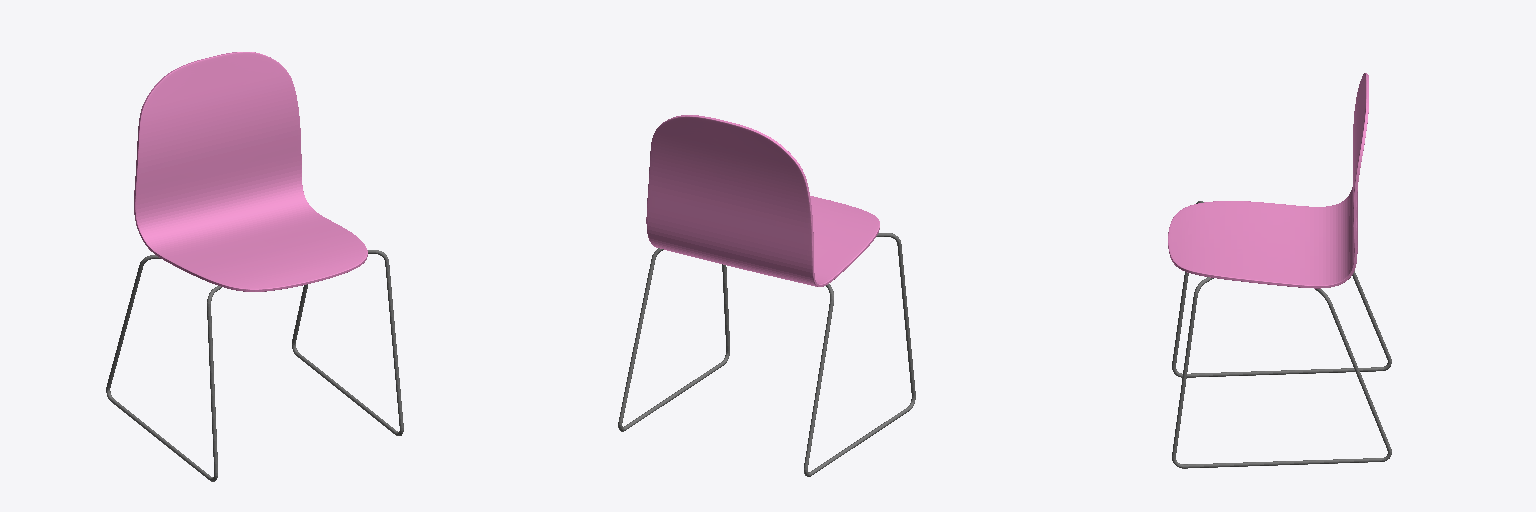
Rendered from chair08.obj.
3 views of the same model, side by side, from view 1: azimuth 30°, elevation 25°; view 2: azimuth 150°, elevation 25°; view 3: azimuth 270°, elevation 25° (orthographic).
Parts seen in each view (by area): view 1: Object.1, Object.2; view 2: Object.1, Object.2; view 3: Object.1, Object.2.
Part boxes in pixels (left/top/right/bottom): Object.1: left=134, top=52, right=367, bottom=291; Object.2: left=106, top=250, right=403, bottom=481; Object.1: left=646, top=115, right=879, bottom=286; Object.2: left=618, top=233, right=915, bottom=476; Object.1: left=1168, top=73, right=1368, bottom=288; Object.2: left=1172, top=201, right=1391, bottom=468.
Bounding box in the file's own units: 19.25 × 32.43 × 19.7.